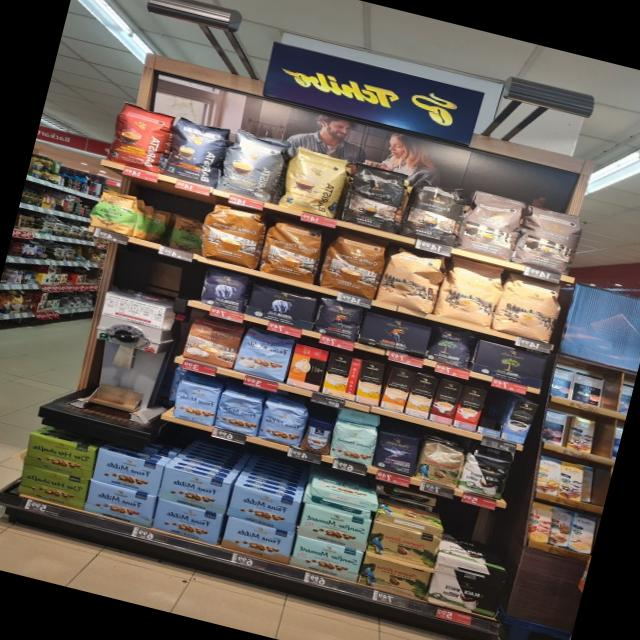AB Bohne: (197, 266, 250, 312)
AB Gemahlen: (243, 282, 318, 331)
Athiopien Bohne: (86, 185, 140, 236)
Athiopien Gemahlen: (167, 214, 204, 253)
BM Bohne: (425, 322, 477, 370)
BM Gemahlen: (470, 338, 549, 388)
BW Bohne: (456, 451, 512, 501)
BW Gemahlen: (426, 571, 504, 620)
Barista CB: (276, 144, 351, 218)
Barista CC: (215, 128, 289, 202)
Barista Espresso: (162, 114, 231, 188)
Barista Kolumbien: (104, 101, 176, 173)
C Fino Bohne: (370, 428, 422, 478)
CC Mild: (433, 254, 505, 328), (492, 271, 565, 343), (376, 242, 448, 314)
CC Vollmundig: (180, 314, 244, 369)
CC Vollmundig 36 Pads: (317, 229, 388, 300), (196, 198, 268, 268), (258, 214, 326, 284)
Colombia BB Bohne: (414, 438, 466, 489)
Colombia BB Gemahlen: (365, 520, 441, 568), (357, 554, 432, 600)
Empty Shelf: (480, 392, 511, 432)
Espresso Kraftig: (338, 160, 410, 233), (398, 175, 467, 248)
Espresso M Art: (510, 200, 586, 276), (454, 187, 526, 262)
FM 36 Pads: (232, 326, 296, 383)
FM Bohne: (255, 399, 308, 448), (171, 379, 221, 427), (213, 392, 262, 438)
FM Gemahlen: (225, 484, 301, 532), (219, 516, 295, 564), (157, 466, 230, 514), (83, 479, 156, 526), (91, 449, 163, 496), (152, 498, 224, 544)
FM Instant: (300, 417, 336, 456)
Herzhatfe Mundig: (20, 431, 96, 480), (16, 464, 88, 508)
LG Bohne: (312, 296, 362, 342)
LG Gemahlen: (356, 310, 432, 358)
SM Bohne: (328, 418, 378, 467)
SM Gemahlen: (295, 502, 372, 552), (288, 534, 365, 582)
Simo CCMild: (321, 352, 361, 400)
Simo CCMild bigpack: (354, 360, 383, 405)
Simo CCVollmundig bigpack: (379, 367, 416, 412)
Simo Decaff: (404, 372, 437, 418)
Simo Es Brazil: (453, 385, 487, 432)
Simo Es Caramel: (429, 378, 462, 425)
Simo Es Vanilla: (500, 399, 538, 444)
